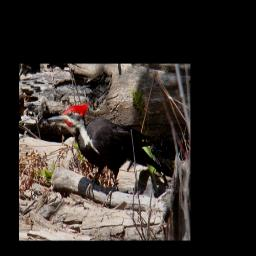Woodpecker: (45, 102, 173, 204)
